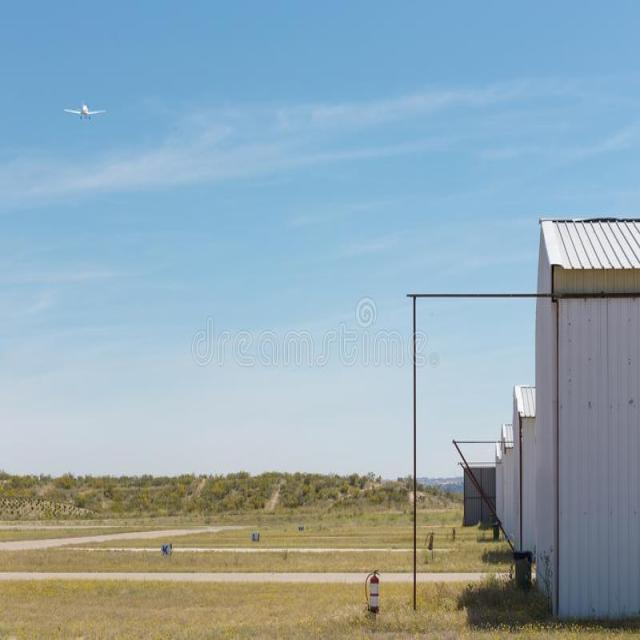fire_extinguisher: (363, 565, 382, 617), (424, 529, 436, 552)
